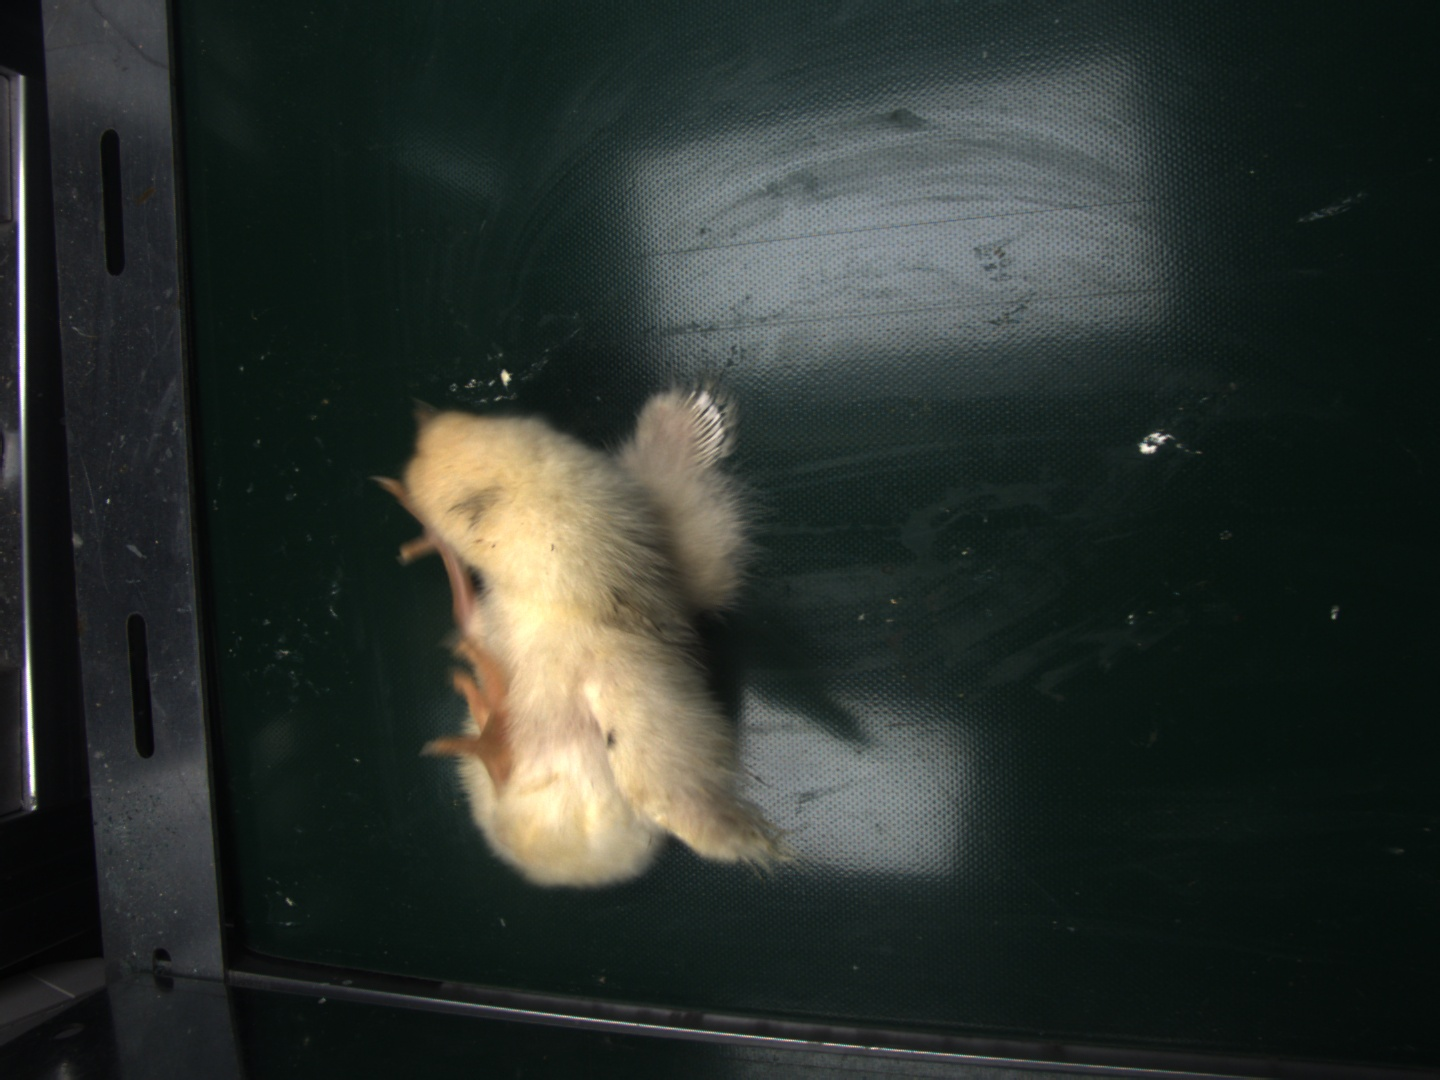male: (678, 388, 729, 469)
